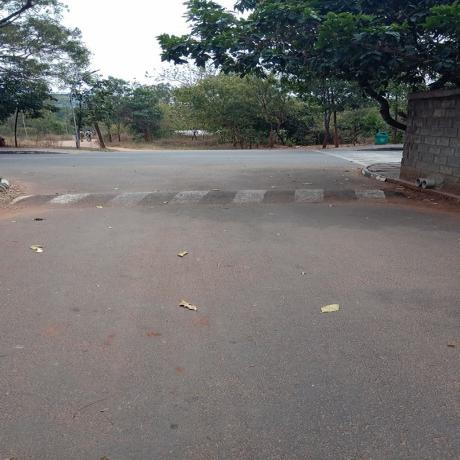Speed Bump: (9, 188, 411, 207)
